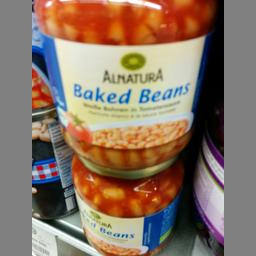beans: (34, 0, 204, 166), (63, 153, 190, 255)
